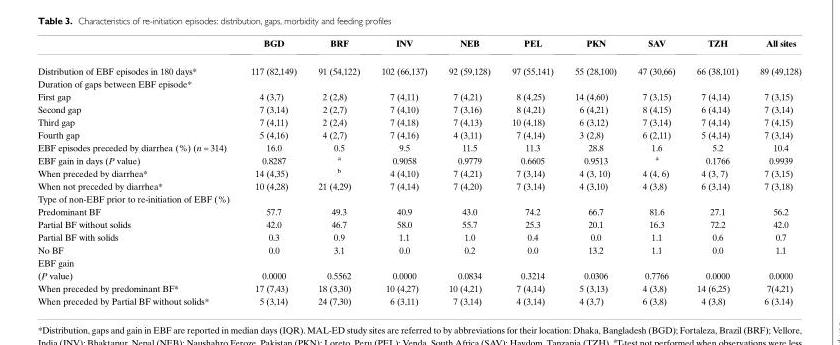table: (37, 37, 801, 305)
table column: (37, 37, 240, 305), (370, 37, 438, 305), (240, 37, 307, 305), (307, 37, 370, 305), (438, 37, 501, 305), (501, 37, 564, 305), (564, 37, 627, 305), (686, 37, 749, 305), (627, 37, 686, 305), (749, 37, 801, 305)
table column header: (37, 37, 801, 56)
table projected row header: (37, 76, 801, 89), (37, 255, 801, 268), (37, 192, 801, 204)
table row: (37, 56, 801, 76), (37, 37, 801, 56), (37, 165, 801, 179), (37, 76, 801, 89), (37, 89, 801, 102), (37, 102, 801, 115), (37, 115, 801, 128), (37, 140, 801, 153), (37, 179, 801, 192), (37, 204, 801, 217), (37, 217, 801, 230), (37, 230, 801, 243), (37, 255, 801, 268), (37, 268, 801, 281), (37, 281, 801, 294), (37, 128, 801, 140), (37, 153, 801, 165), (37, 192, 801, 204), (37, 243, 801, 255), (37, 294, 801, 305)
